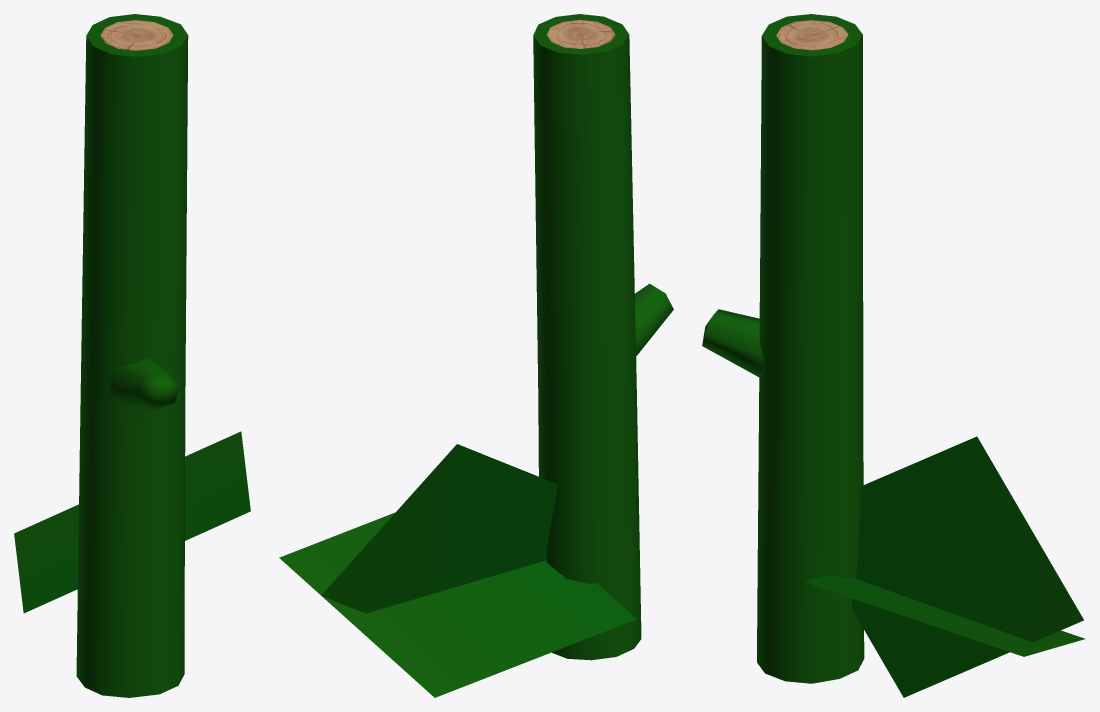
The model's file is obj_harvests_trees_birch01_p03.fbx.
3 views of the same model, side by side, from view 1: azimuth 30°, elevation 25°; view 2: azimuth 150°, elevation 25°; view 3: azimuth 270°, elevation 25° (orthographic). The views are drawn at different scales.
Parts seen in each view (by area): view 1: chunk03; view 2: chunk03; view 3: chunk03.
Part boxes in pixels (x1,y1,x2,y2): chunk03: (14, 14, 250, 697); chunk03: (279, 14, 673, 697); chunk03: (702, 14, 1085, 697).
Bounding box in the file's own units: 3.91 × 8.04 × 4.42.
